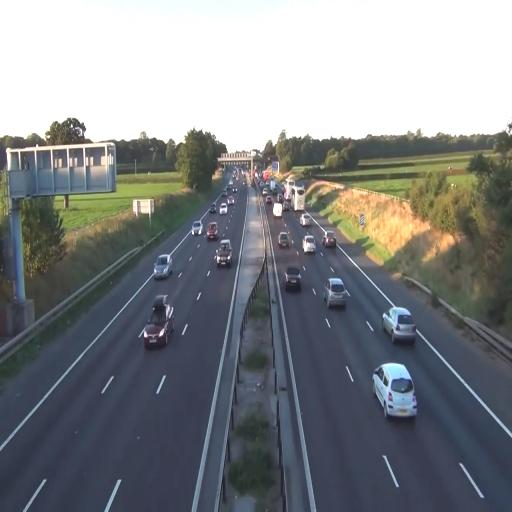vehicle: (372, 362, 418, 420), (372, 363, 416, 420), (141, 297, 174, 349), (143, 296, 173, 348), (382, 305, 416, 346), (382, 307, 415, 344), (324, 277, 350, 310), (323, 279, 345, 307), (215, 238, 233, 266), (154, 253, 172, 280), (284, 266, 303, 291), (153, 254, 171, 279), (215, 239, 231, 267), (284, 267, 300, 290), (290, 186, 304, 211), (302, 232, 316, 256), (278, 230, 292, 250), (206, 220, 218, 242), (302, 235, 315, 253), (206, 222, 218, 241), (322, 231, 335, 248), (283, 179, 294, 199), (324, 232, 336, 249), (277, 232, 288, 248), (191, 221, 201, 236), (192, 222, 202, 236), (272, 203, 281, 218), (299, 215, 309, 226), (218, 203, 227, 214), (262, 170, 269, 182), (268, 180, 275, 191), (282, 201, 289, 211), (210, 203, 216, 213), (276, 194, 282, 204), (227, 196, 233, 205), (264, 179, 270, 187), (265, 196, 271, 204), (272, 187, 277, 195), (232, 187, 238, 193), (262, 188, 267, 195), (221, 190, 226, 197), (228, 180, 232, 187), (226, 185, 230, 191)
